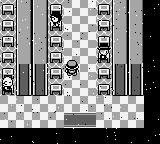main: (65, 60, 79, 76)
no-caminable: (0, 0, 159, 143), (16, 0, 31, 65), (112, 0, 127, 64), (33, 0, 48, 64), (129, 1, 142, 64), (33, 64, 47, 95), (113, 64, 127, 95), (129, 64, 143, 95), (17, 64, 30, 95)
npc: (2, 76, 14, 92), (50, 12, 62, 27), (98, 45, 110, 60)
puerta: (61, 112, 100, 128)
